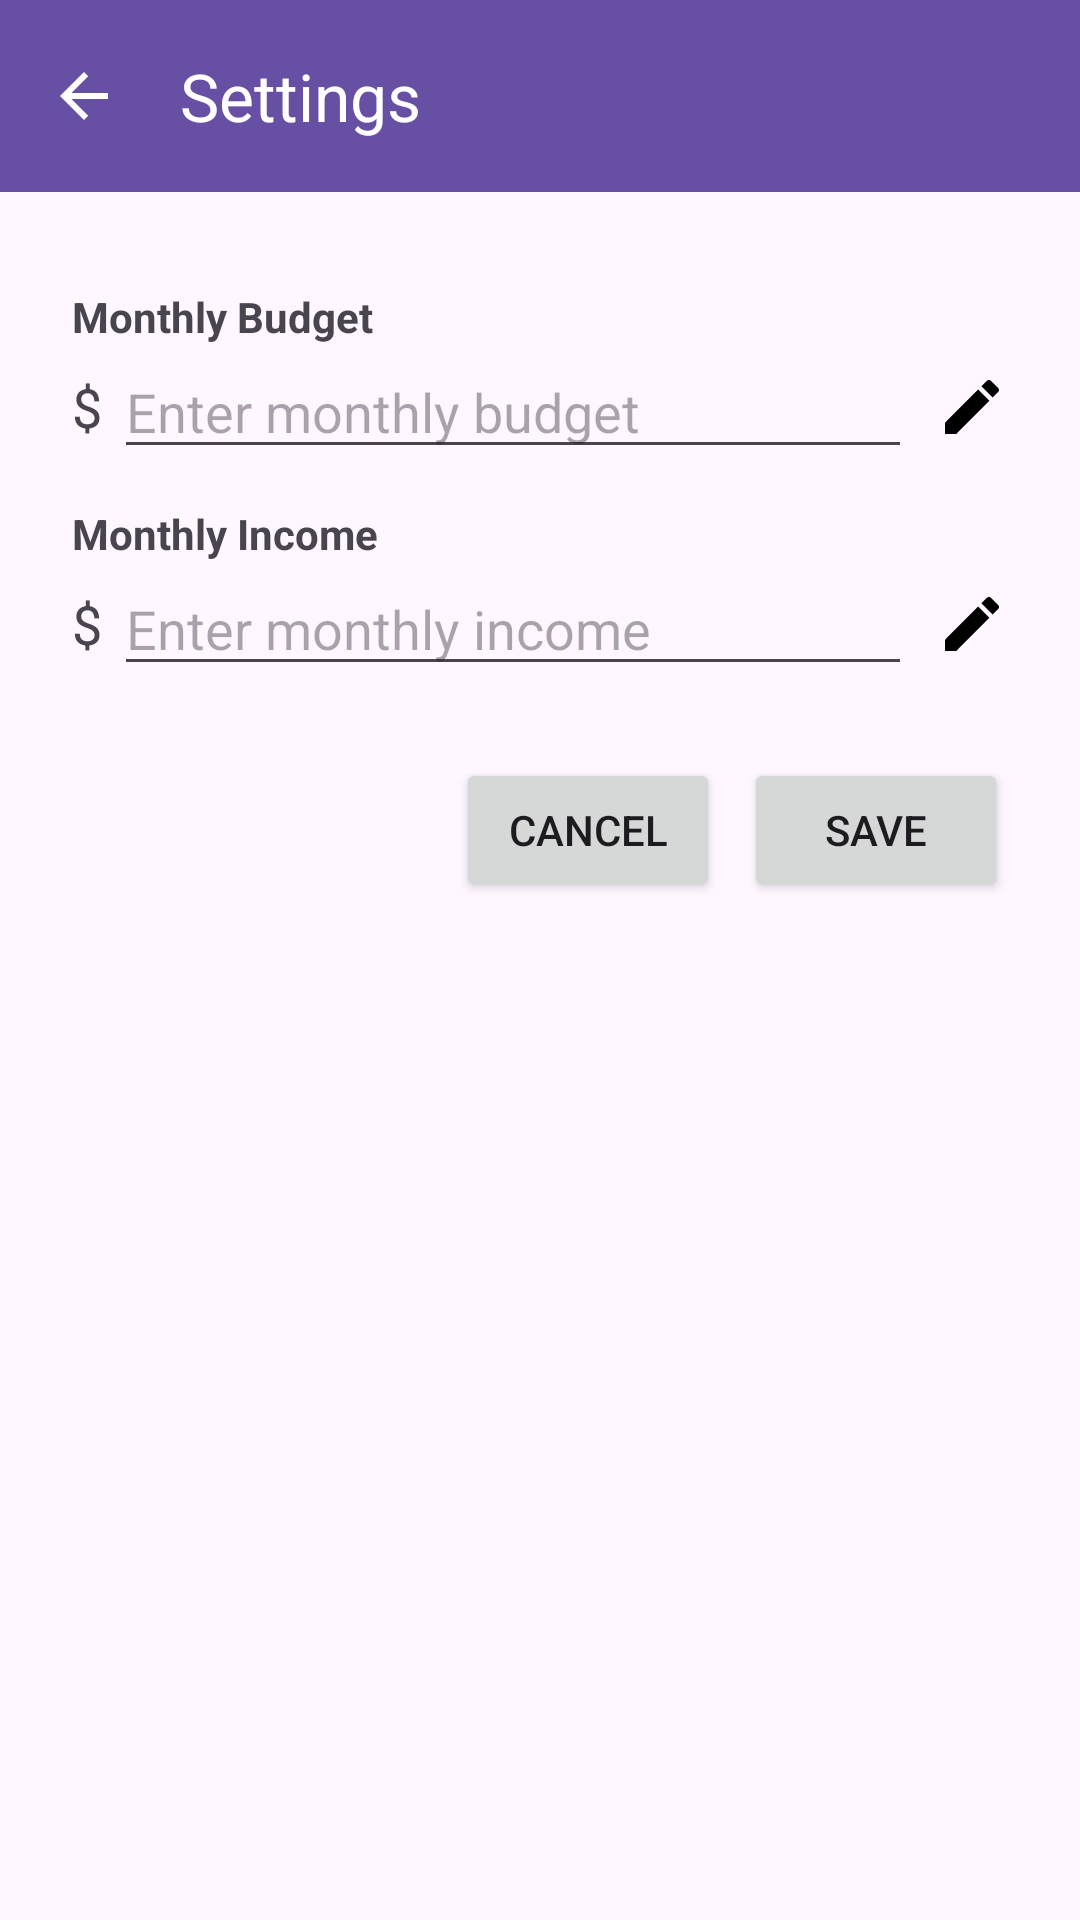

Icon click points for this 1080x1920 phone screenshot, format (x,y):
Edit Budget: (972,407)
Edit Income: (972,624)
